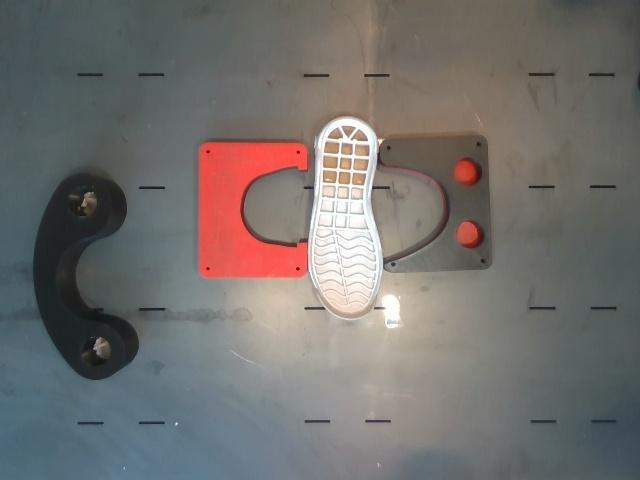shoes: (310, 119, 382, 318)
